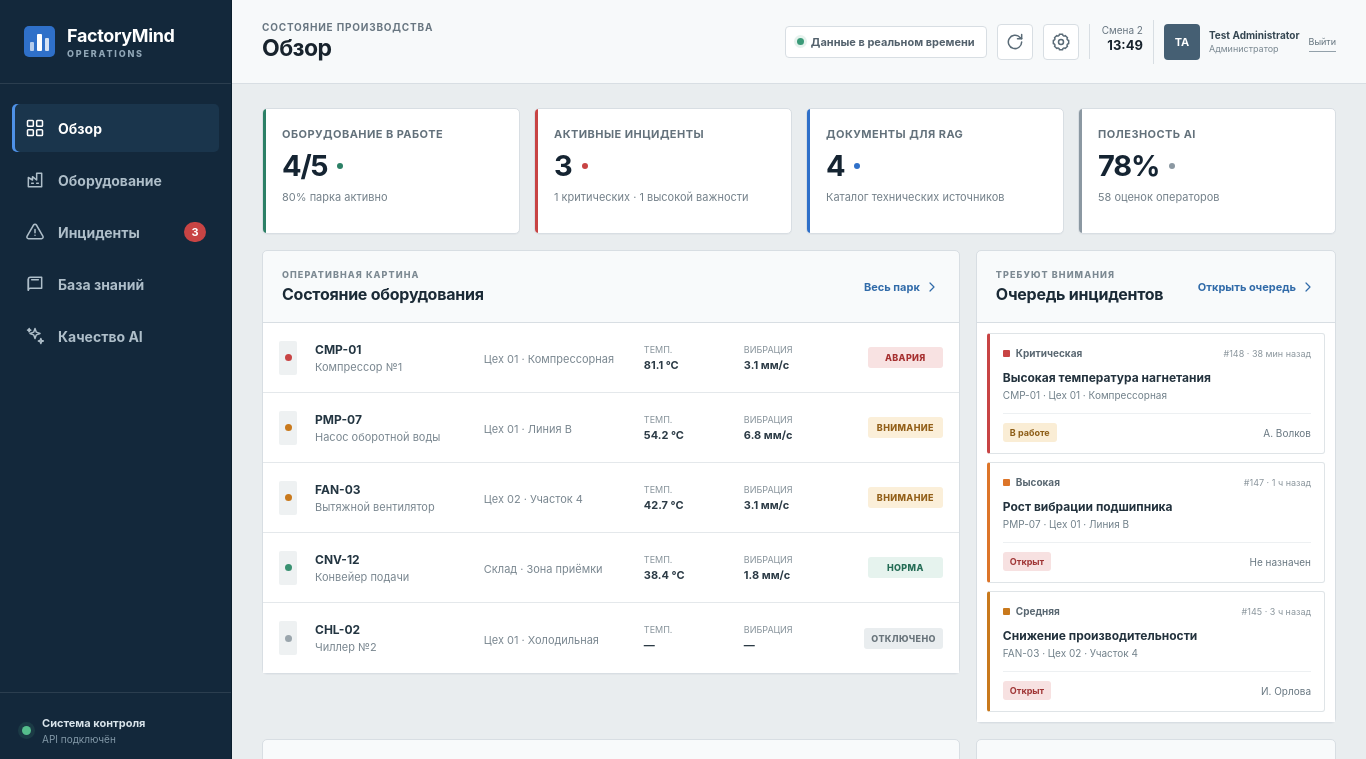
it: Машинные ключи оборудования › показывает новый секрет только до закрытия окна
Later steps or results of the test are not shown.
Check: the text "Данные в реальном времени" is shown, box top-left (785, 26), bottom-right (987, 58)
Click the button "Оборудование" at (116, 180), box top-left (12, 156), bottom-right (219, 204)
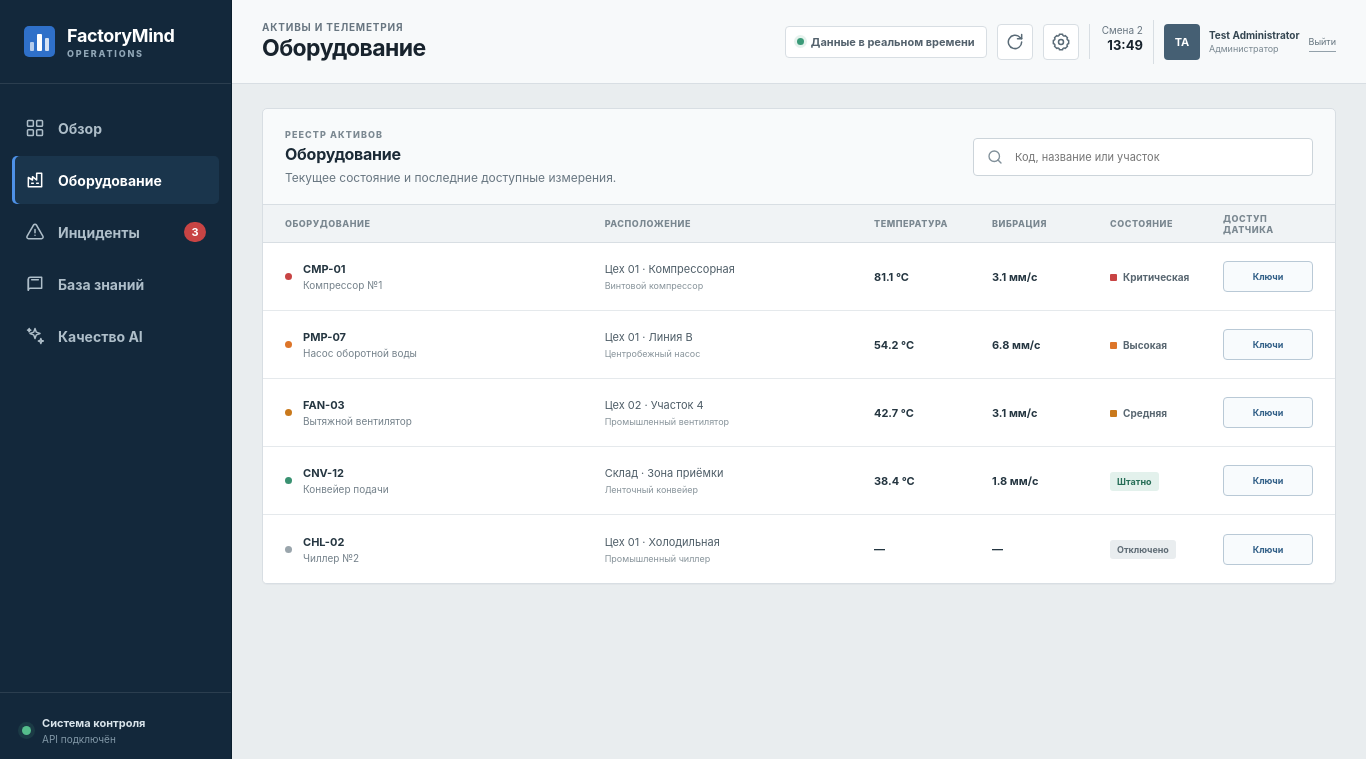
Click the button "Ключи" next to "Критическая" at (1268, 276), box top-left (1223, 261), bottom-right (1313, 292)
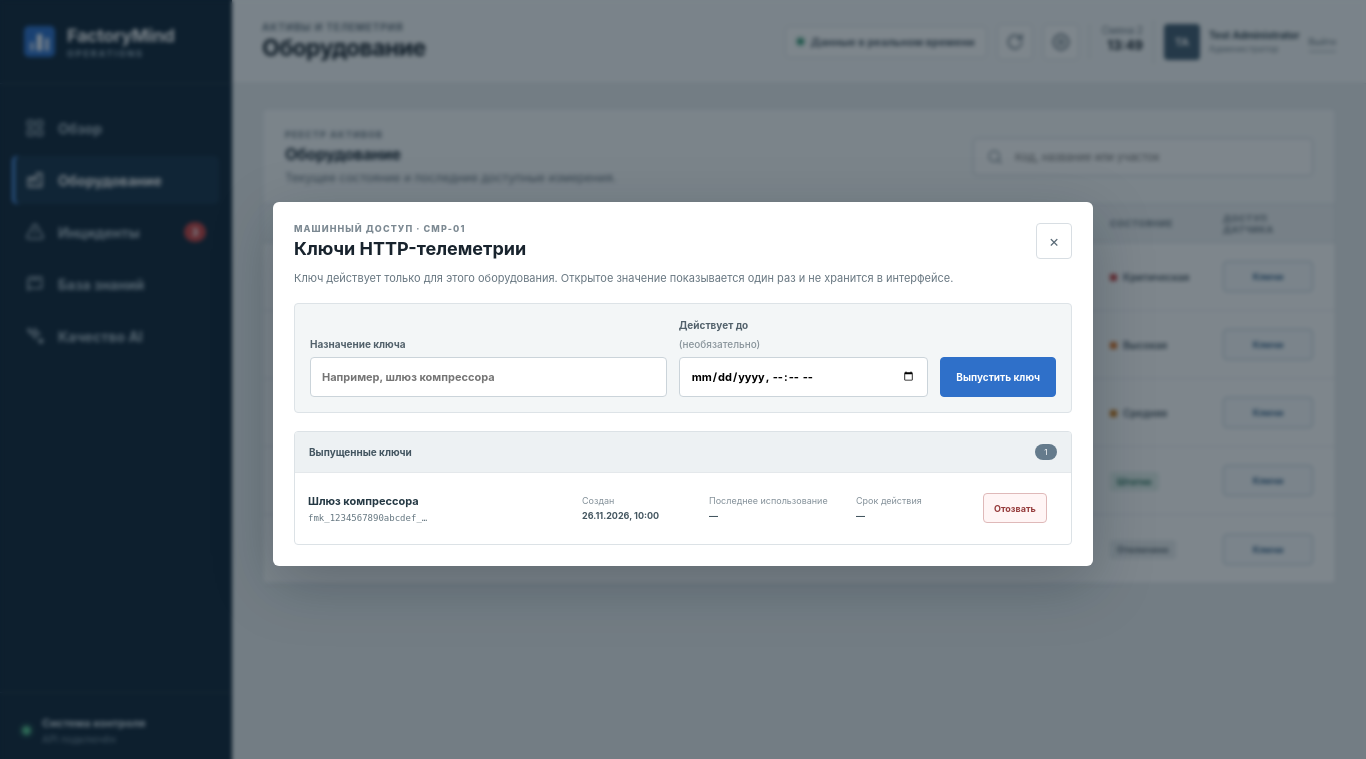
Check: the text "Шлюз компрессора" is shown, box top-left (308, 494), bottom-right (419, 508)
Type "Новый HTTP-шлюз" into the field labelled "Назначение ключа" at (488, 376), box top-left (310, 356), bottom-right (667, 396)
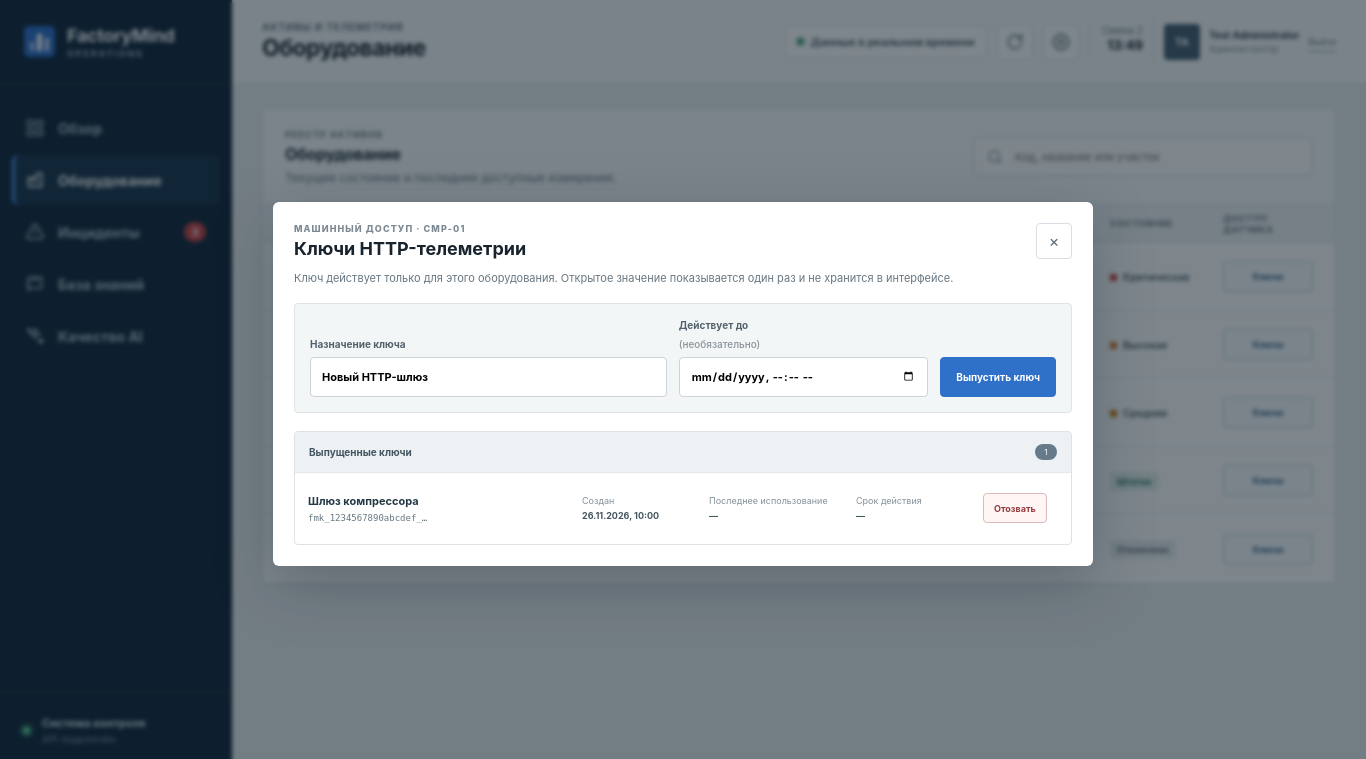
Click the button "Выпустить ключ" at (998, 376), box top-left (940, 356), bottom-right (1056, 396)
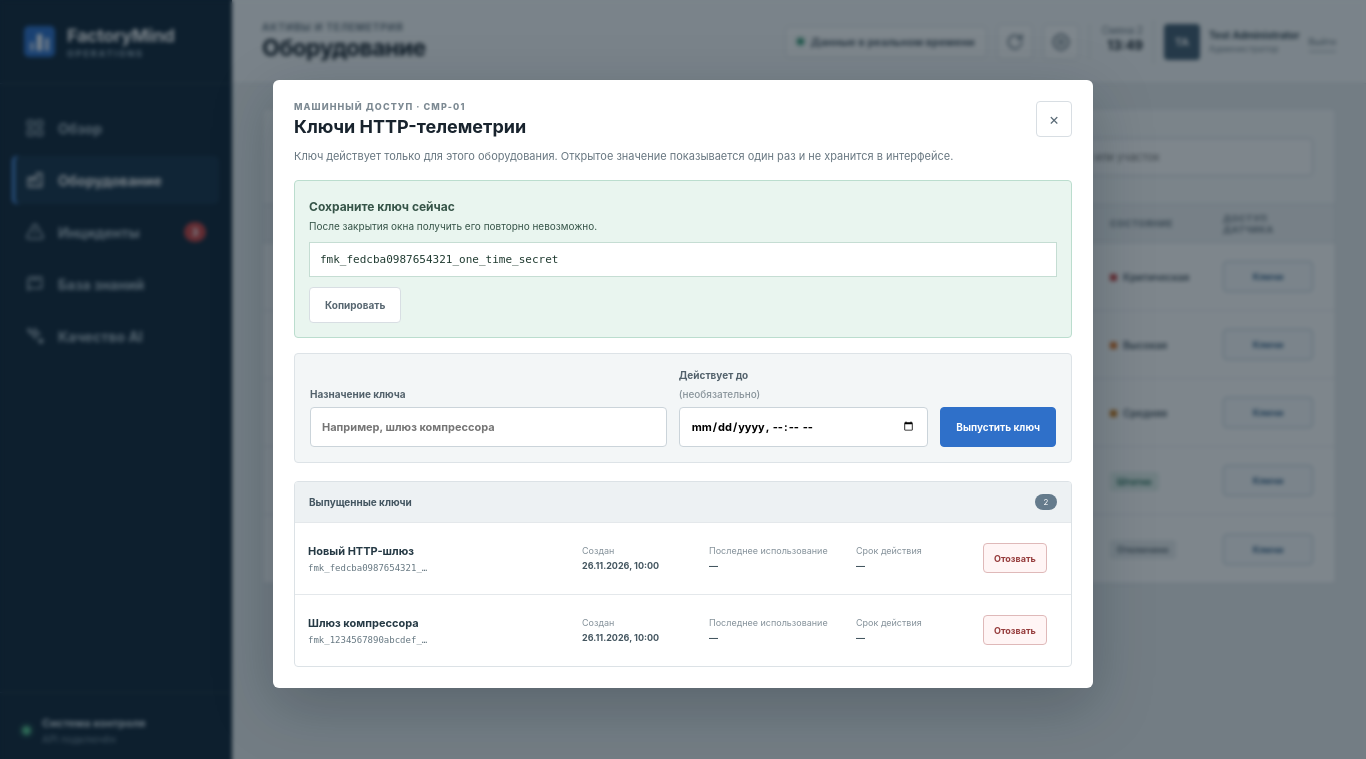
Check: the text "fmk_fedcba0987654321_one_time_secret" is shown, box top-left (309, 242), bottom-right (1057, 276)
